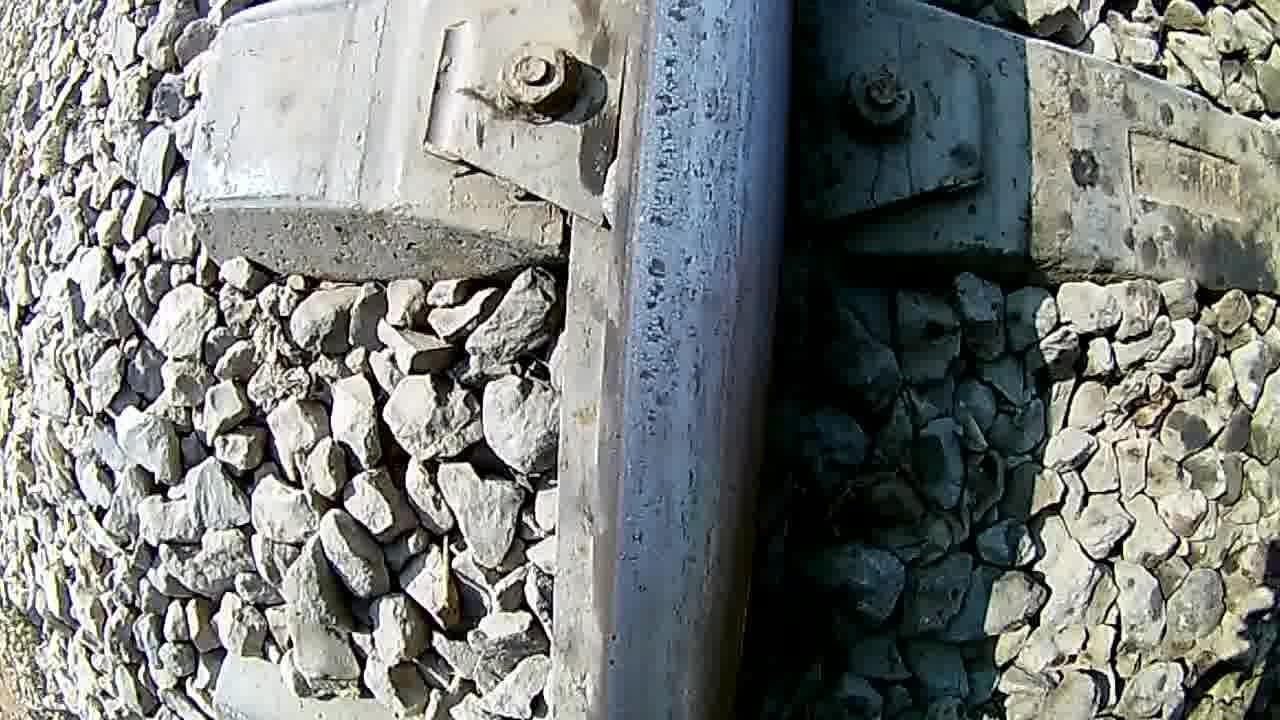crack: (594, 0, 789, 720)
